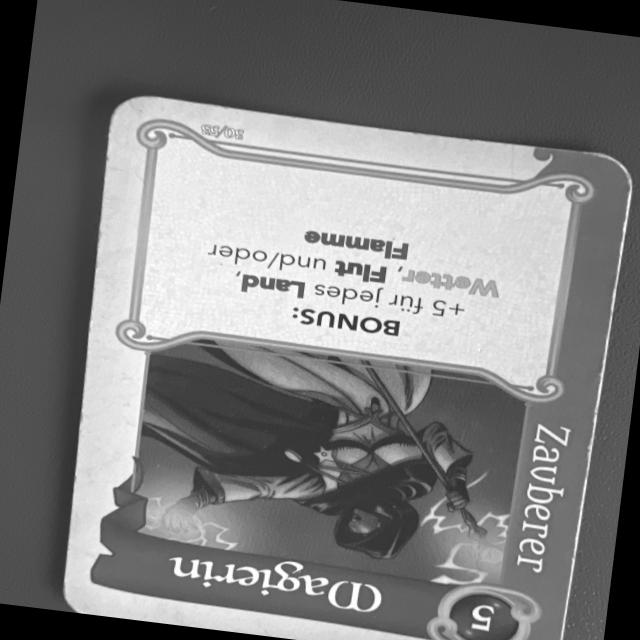Elemental Enchantress: (60, 90, 639, 640)
